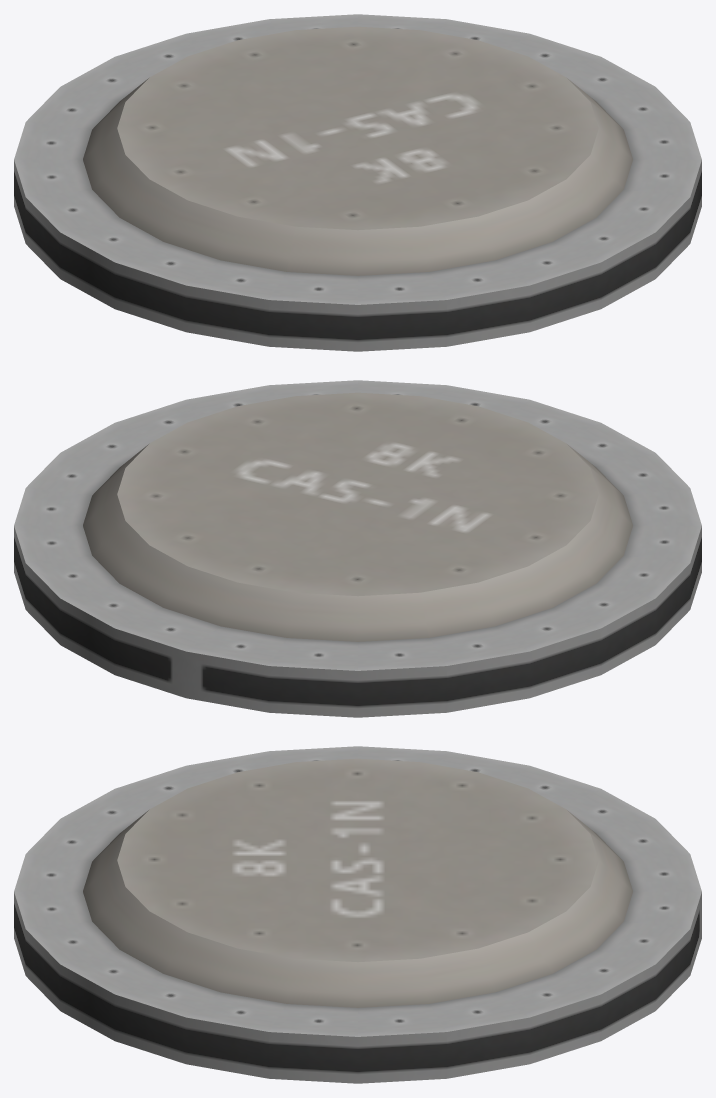
File: Castor_Control_1_N.obj
3 renders of one model, top to bottom at view 1: azimuth 30°, elevation 25°; view 2: azimuth 150°, elevation 25°; view 3: azimuth 270°, elevation 25°, orthographic.
Visible parts, largest first — view 1: Castor_Control_1_N; view 2: Castor_Control_1_N; view 3: Castor_Control_1_N.
Boxes of the visible parts, x1=… form: Castor_Control_1_N: x1=14, y1=14, x2=701, y2=351; Castor_Control_1_N: x1=14, y1=380, x2=701, y2=717; Castor_Control_1_N: x1=14, y1=746, x2=701, y2=1083.
Size of the model in its own units: 0.625 by 0.1094 by 0.625.
